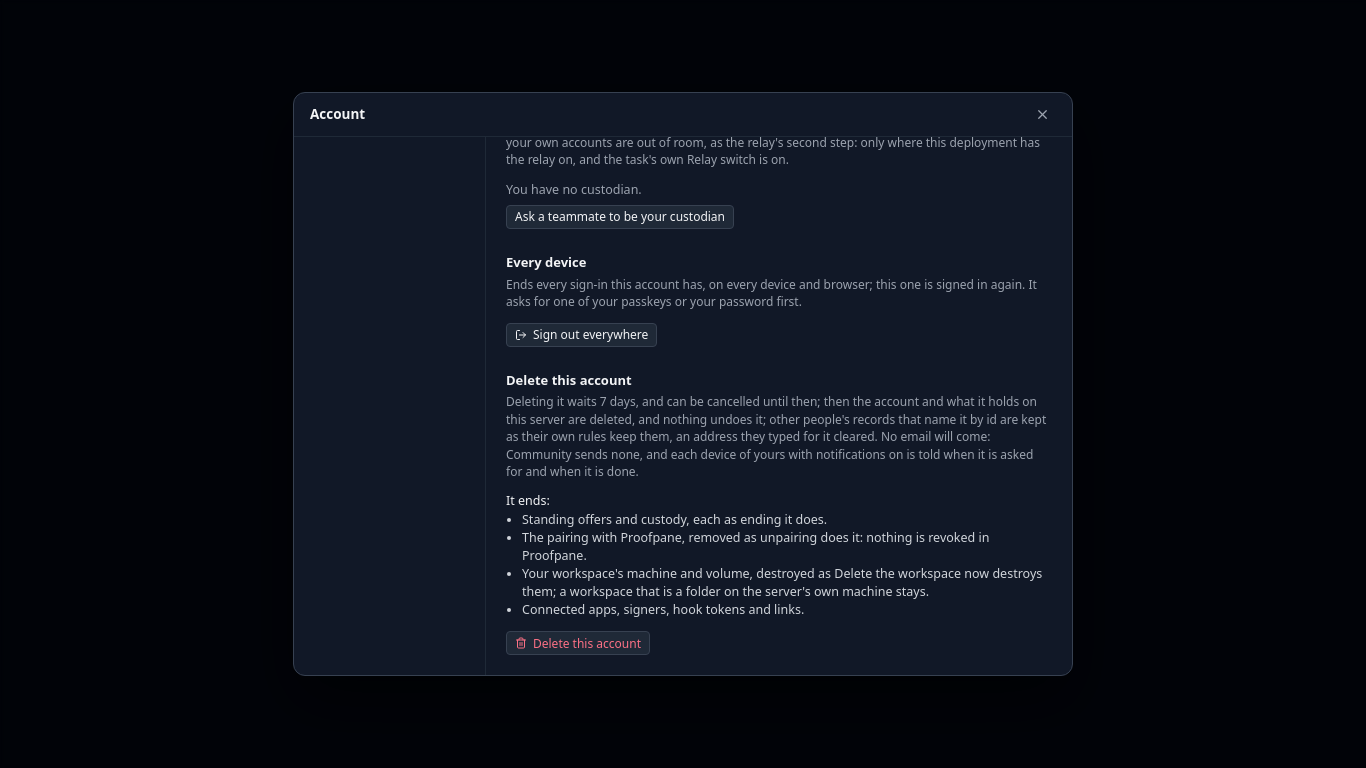
Test: near misses in the phone app › an account with no passkey confirms its deletion here with its password: no link
(page scrolled)
Click the button "Delete this account" at {"x": 578, "y": 643}, box 506,631 -> 650,655
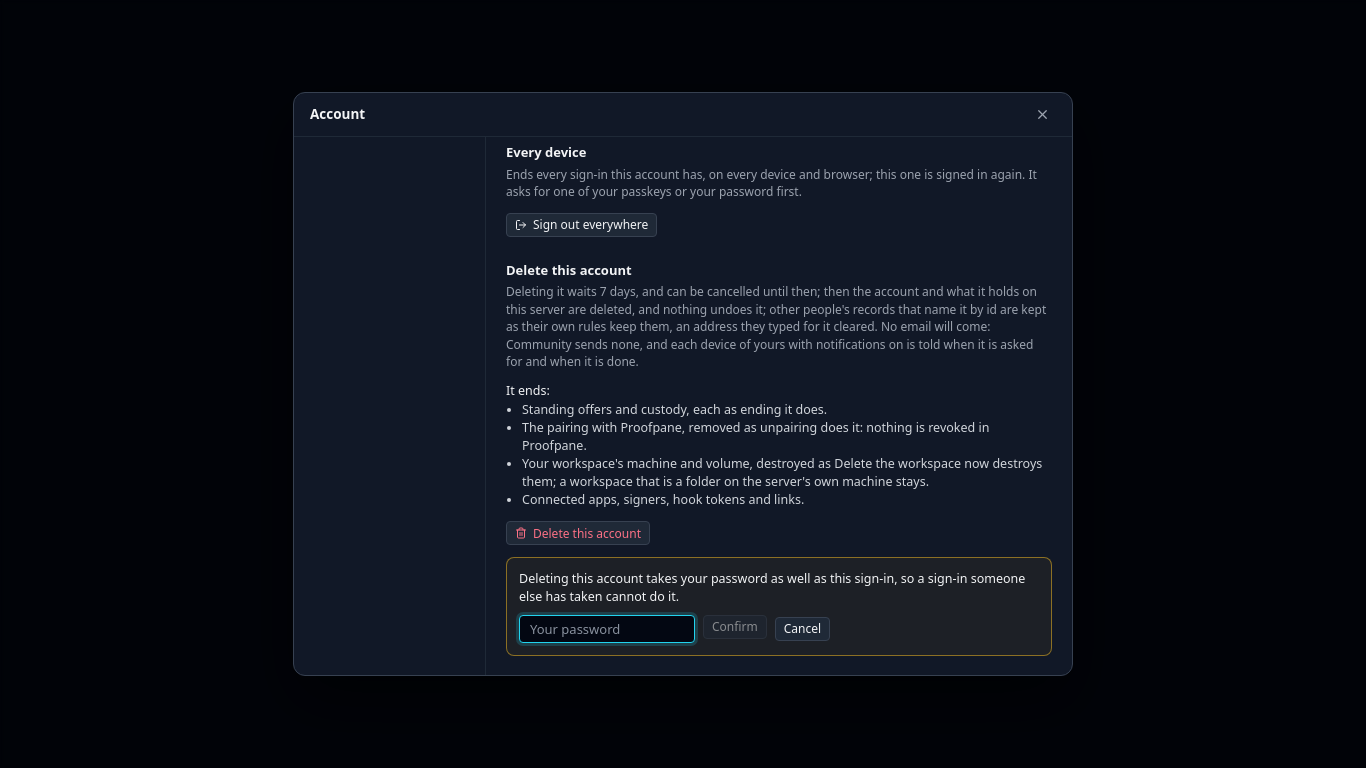
expect the password field labelled "Your password" is shown: met, box 519,614 -> 695,642
